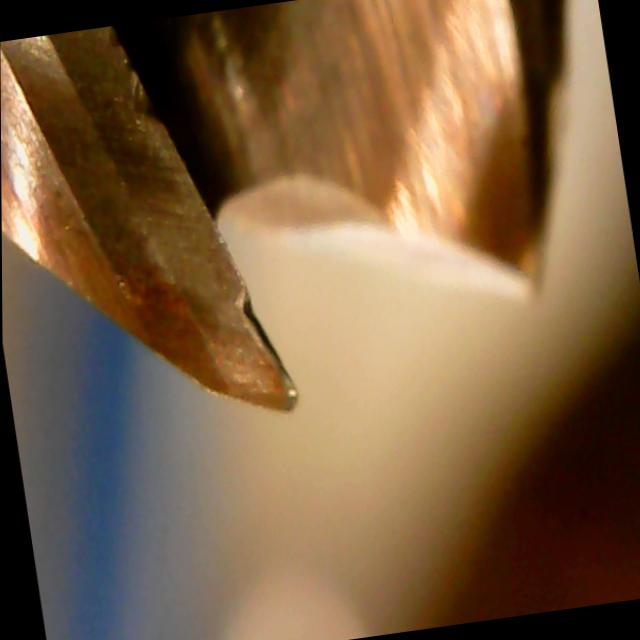Tool-wear-class-1: (143, 213, 331, 448)
